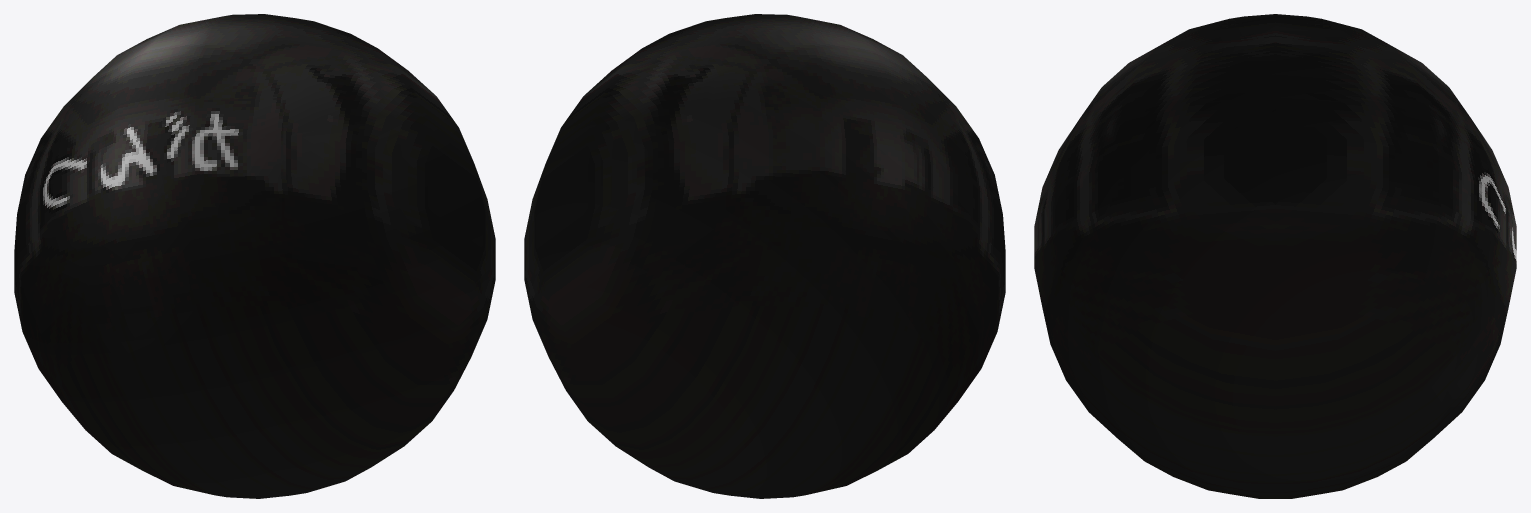
File: ps2_save-icons_gantz.glb
3 views of the same model, side by side, from view 1: azimuth 30°, elevation 25°; view 2: azimuth 150°, elevation 25°; view 3: azimuth 270°, elevation 25° (orthographic).
Parts seen in each view (by area): view 1: gantz.ico; view 2: gantz.ico; view 3: gantz.ico.
Boxes of the visible parts, x1,y1,x2,y2 form: gantz.ico: (14,14,495,498); gantz.ico: (524,14,1005,498); gantz.ico: (1034,14,1516,498).
Size of the model in its own units: 4.94 by 5 by 4.96.
1 material, 1 textured.
